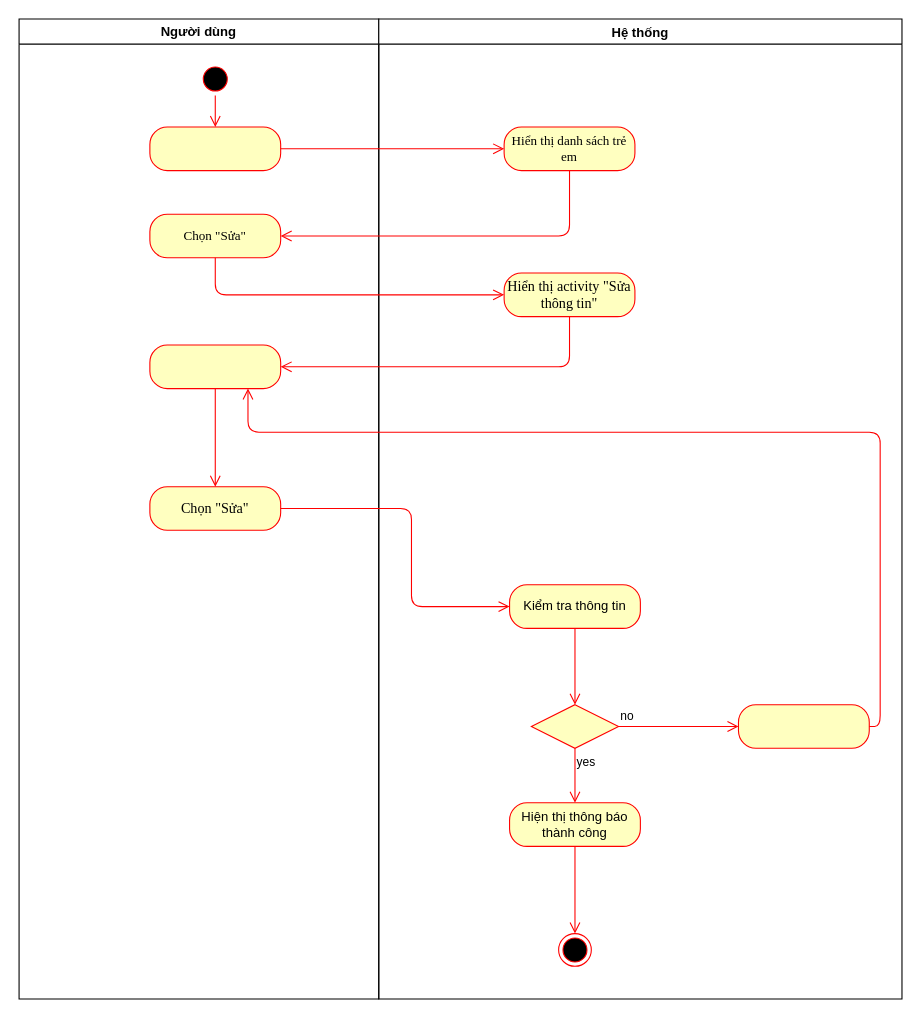
This 921x1018 diagram has some shape labels left out. The centre of each missing label's shape, as x and y in pixels:
Chọn "Trẻ em": point (215, 148)
Condition: point (574, 726)
Hiện thị thông báo lỗi: point (803, 726)
Nhập thông tin: point (215, 366)
